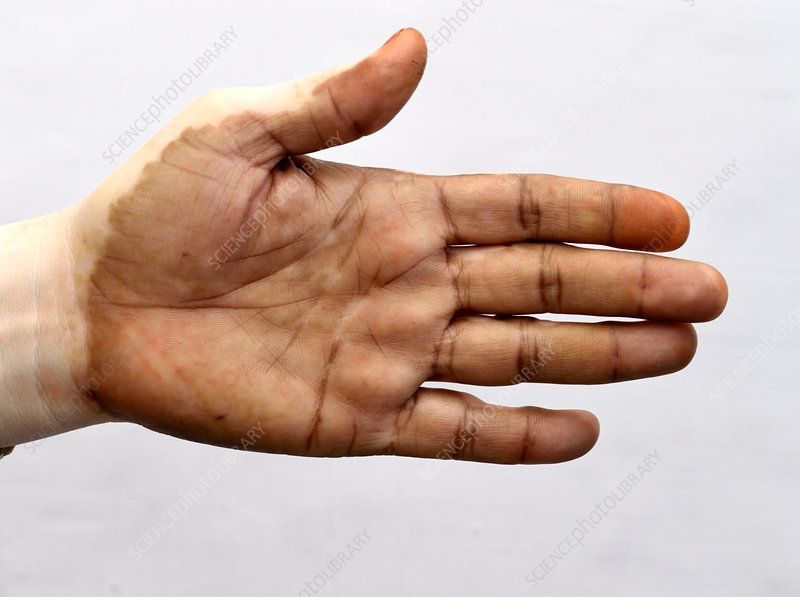Diseased: (82, 130, 351, 392)
